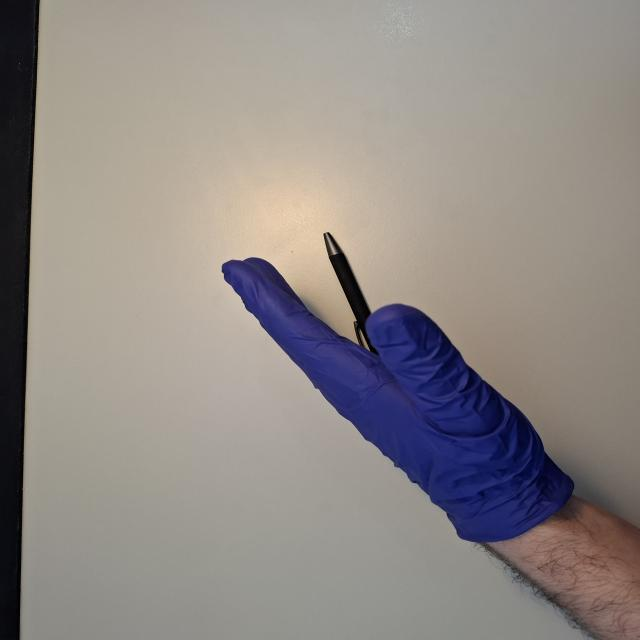glove_on: (218, 255, 572, 540)
